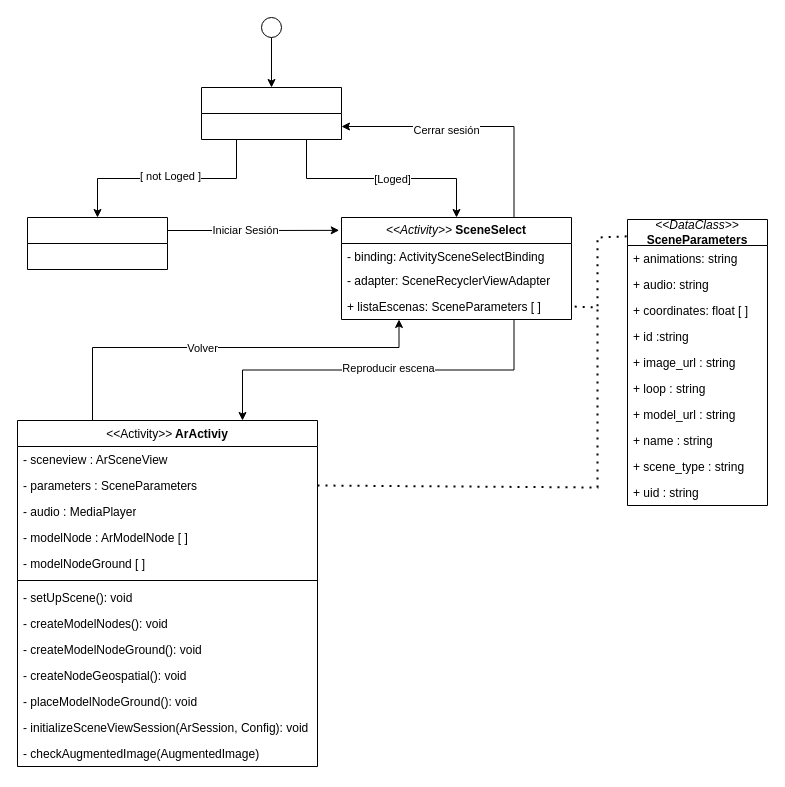
Image size: 785x787. Some labels were removed from this diagram. Here are the shapes that lost their labels. From the top down, the centre of each, then its label:
At (271,113): "<<Activity>> MainActivity".
At (97,243): "<<Activity>> LoginActivity".
